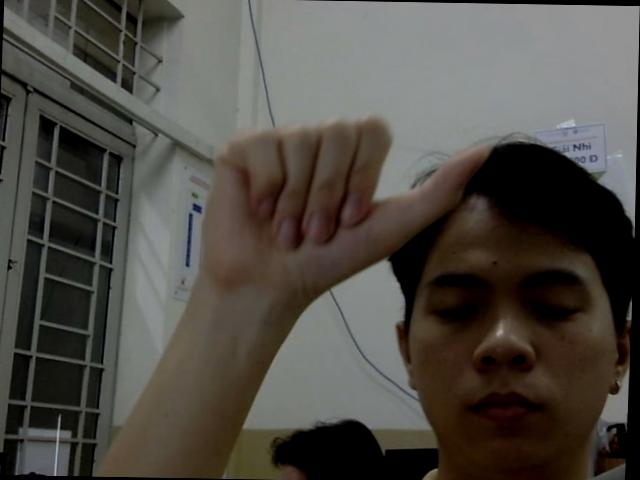A: (196, 110, 492, 277)
